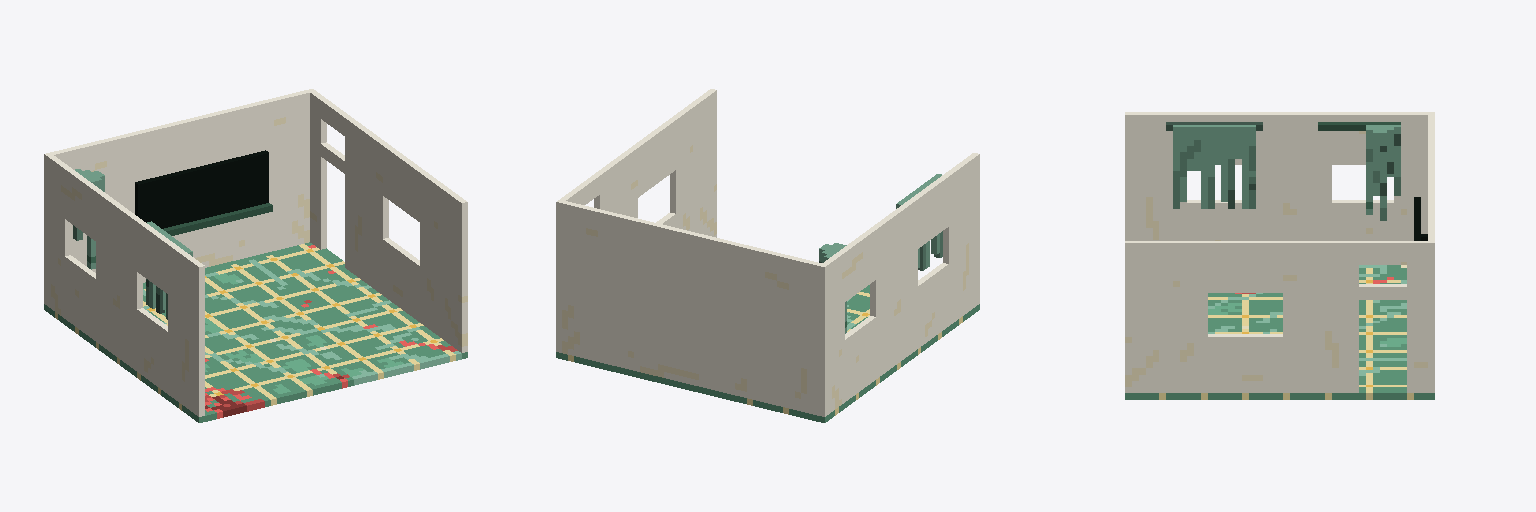
3 views of the same model, side by side, from view 1: azimuth 30°, elevation 25°; view 2: azimuth 150°, elevation 25°; view 3: azimuth 270°, elevation 25° (orthographic).
Bounding box in the file's own units: 45 × 25 × 45.
1 materials, 1 textured.